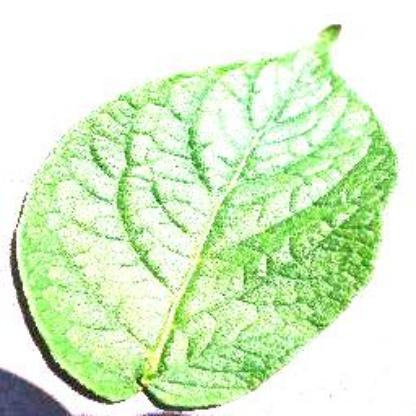Healthy-plant: (17, 10, 399, 412)
